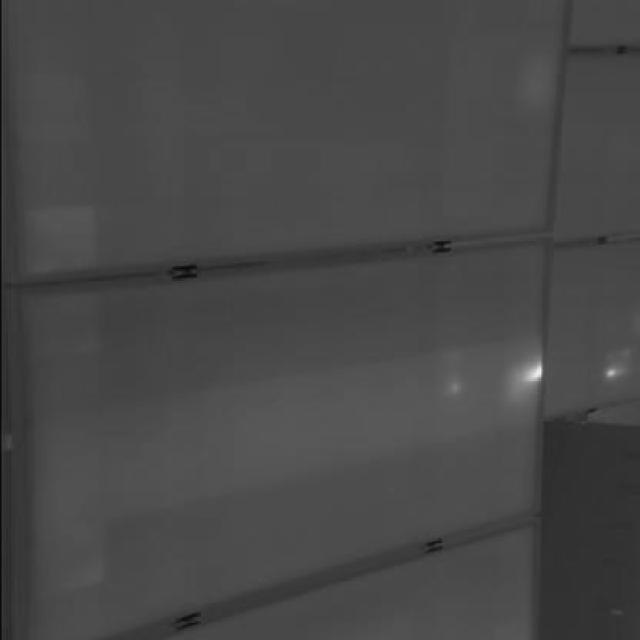hotspot: (504, 358, 548, 398), (603, 348, 631, 382)
